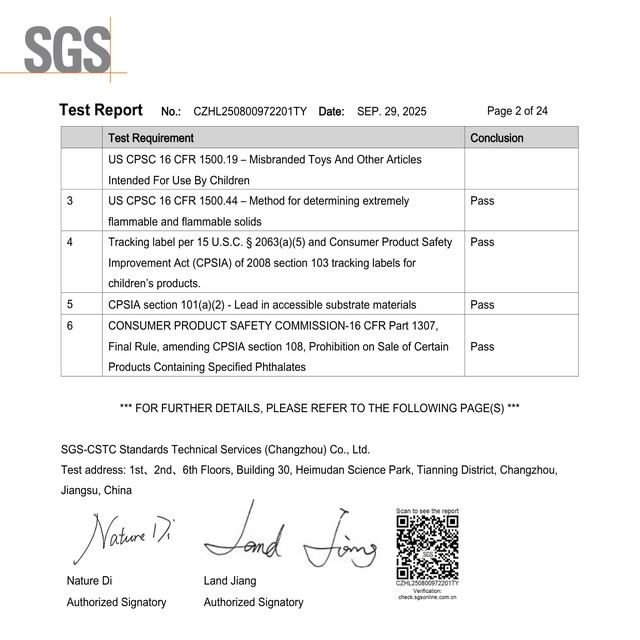sgs: (24, 25, 112, 73)
